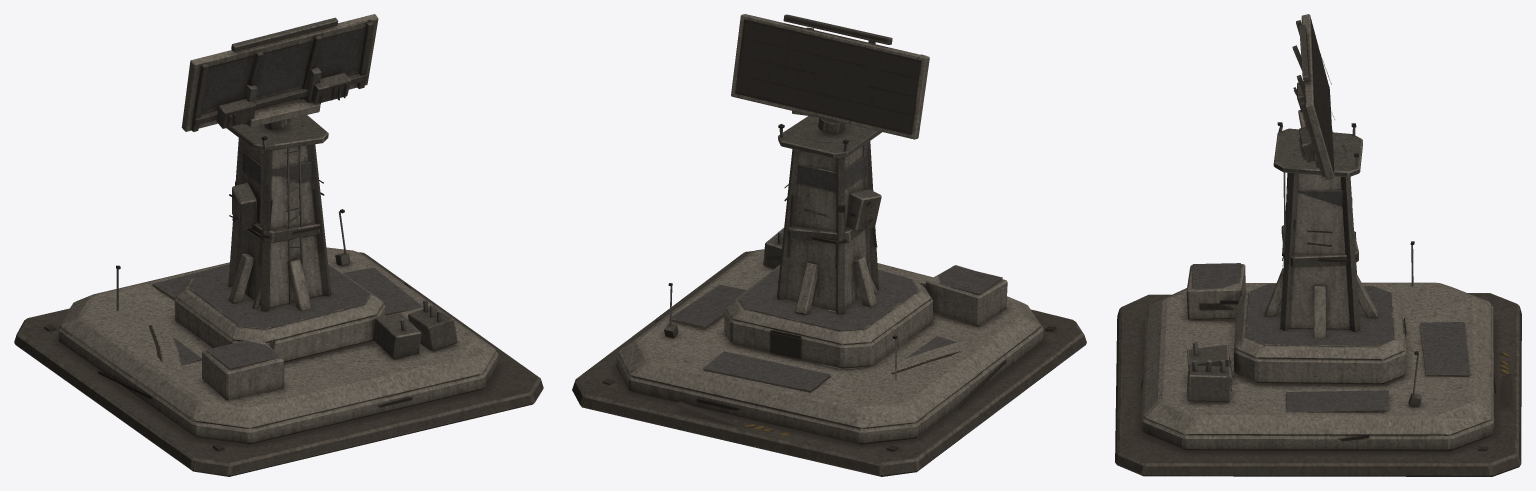
File: ord_beacon_wreck.fbx
3 views of the same model, side by side, from view 1: azimuth 30°, elevation 25°; view 2: azimuth 150°, elevation 25°; view 3: azimuth 270°, elevation 25° (orthographic).
Parts seen in each view (by area): view 1: base_bar, radar_bar; view 2: base_bar, radar_bar; view 3: base_bar, radar_bar.
Part boxes in pixels (x1,y1,x2,y2): base_bar: (14,115,543,476); radar_bar: (181,14,378,131); base_bar: (572,116,1086,476); radar_bar: (731,14,929,139); base_bar: (1115,122,1521,476); radar_bar: (1292,14,1334,179).
Size of the model in its own units: 2376 by 2388 by 2374.
2 materials, 2 textured.
